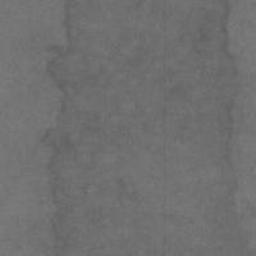Water spot: (49, 0, 241, 256)
